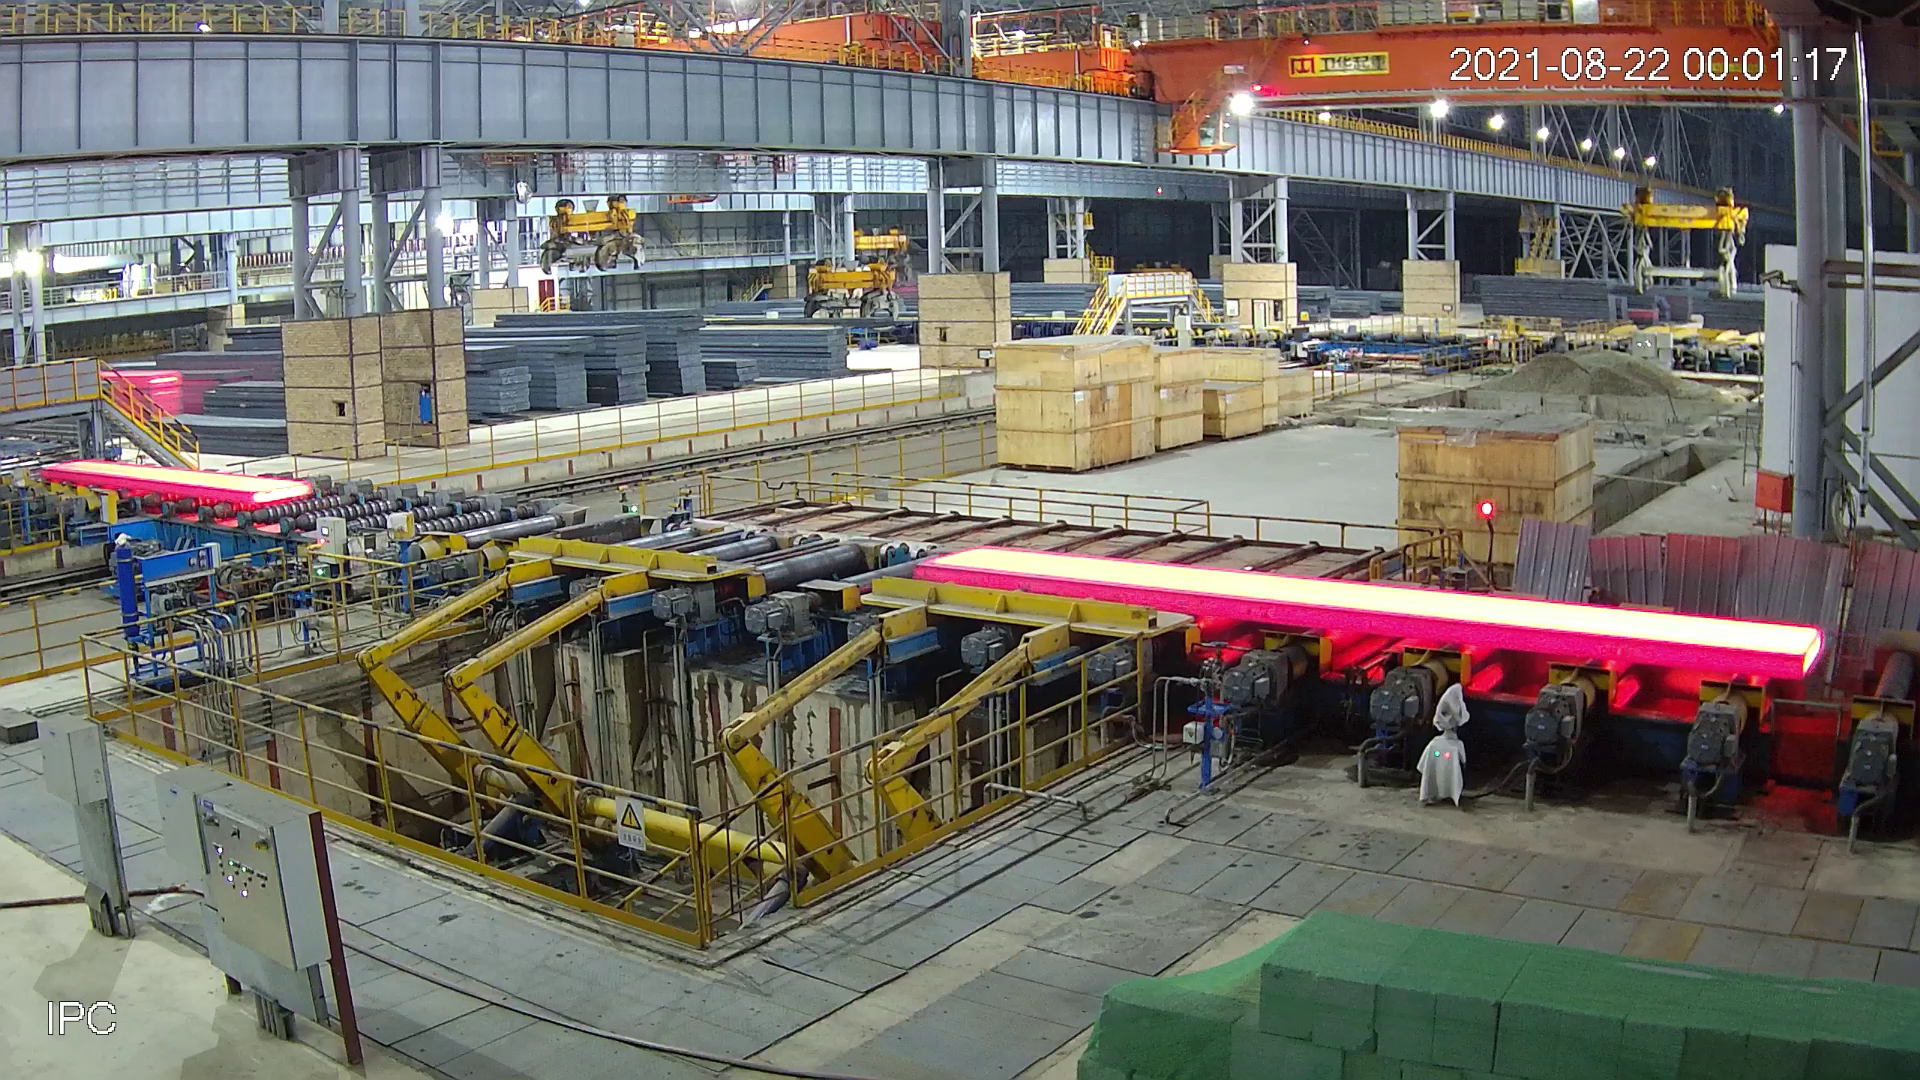crane: (1001, 156, 1396, 481)
slab: (800, 745, 1478, 825)
